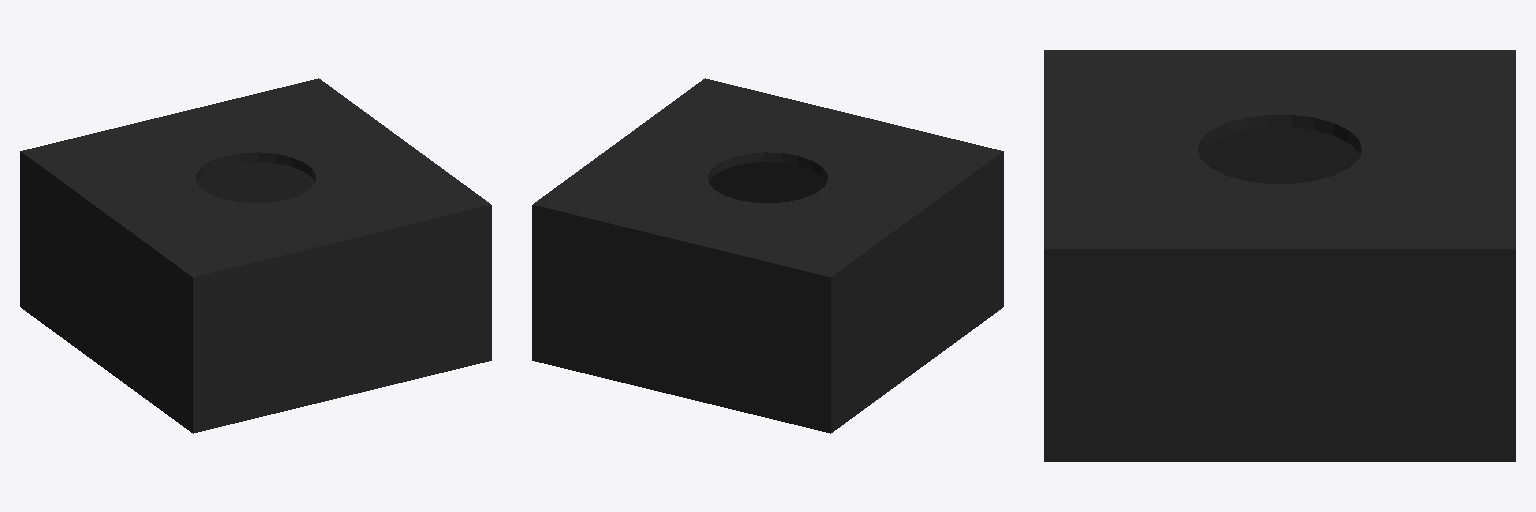
robot.urdf — target_box_new:
<?xml version="1.0" ?>
<robot name="target_box_new">
  <material name="gray">
      <color rgba="0.2 0.2 0.2 1.0"/>
  </material>

  <link concave="yes" name="base_link">
    <inertial>
      <origin xyz="0 0 0" rpy="-1.5707963267949 0 0" />
      <mass value="0.081822" />
      <inertia
        ixx="0.000132074048250048"
        ixy="-5.71705485941562E-20"
        ixz="-3.53884855372794E-20"
        iyy="0.000132074048250048"
        iyz="1.63515569788758E-21"
        izz="0.000221304677455394" />
    </inertial>
    <visual>
      <origin xyz="0 0 0" rpy="-1.5707963267949 0 0" />
      <geometry>
        <mesh filename="meshes/hezi.stl" scale="2.0 2.0 2.0"/>
      </geometry>
      <material name="gray"/>
    </visual>
    <collision concave="yes">
      <origin xyz="0 0 0" rpy="-1.5707963267949 0 0" />
      <geometry>
        <mesh filename="meshes/hezi.stl" scale="2.0 2.0 2.0"/>
      </geometry>
    </collision>
  </link>
</robot>

--- What the picture shows (computed from the rendered views, not written in the file) ---
Views: 3 orthographic renders of the robot side by side, from view 1: azimuth 30°, elevation 25°; view 2: azimuth 150°, elevation 25°; view 3: azimuth 270°, elevation 25°.
Robot: target_box_new — 1 links, 0 joints (none); root link base_link; default pose: all joints at 0.
Visible links, largest first — view 1: base_link; view 2: base_link; view 3: base_link.
Boxes of the visible links, x1,y1,x2,y2 form: base_link: (20, 78, 491, 433); base_link: (532, 78, 1003, 433); base_link: (1044, 50, 1515, 461).
Bounding box of the posed robot: 0.2 × 0.2 × 0.1 m (x, y, z).
1 mesh visuals loaded from 1 distinct referenced files (1 binary STL).
